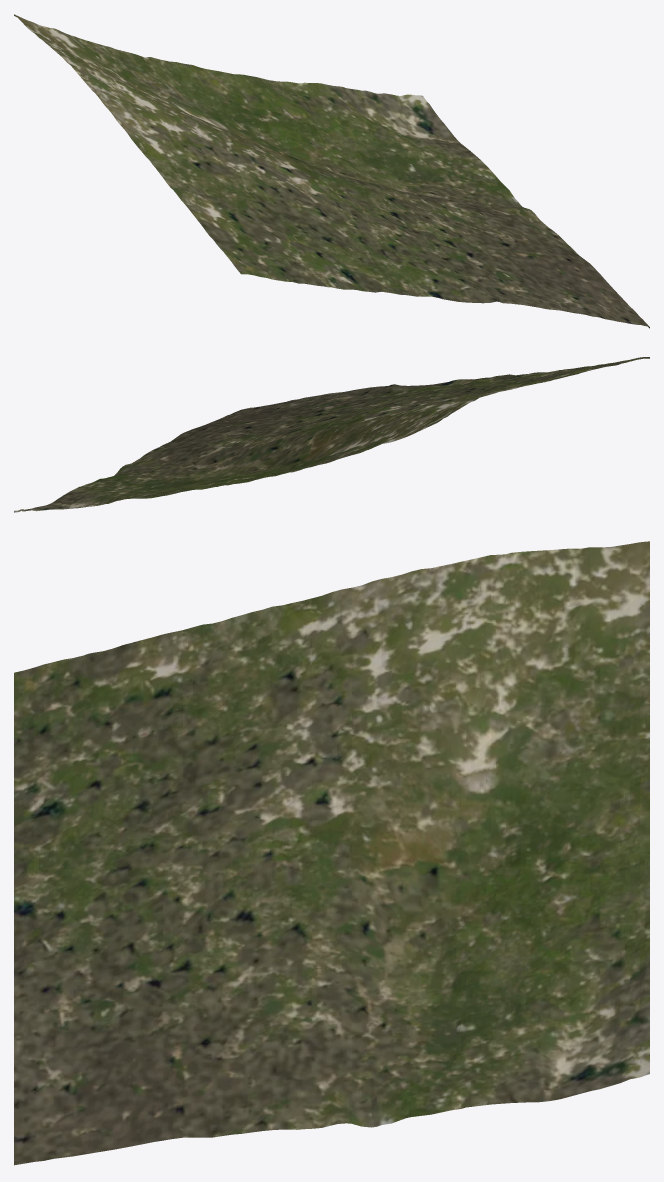
The picture shows the model from 3 angles, top to bottom: view 1: azimuth 30°, elevation 25°; view 2: azimuth 150°, elevation 25°; view 3: azimuth 270°, elevation 25°; orthographic projection. The views are drawn at different scales.
Bounding box in the file's own units: 250 × 145 × 241.
1 material, 1 textured.
